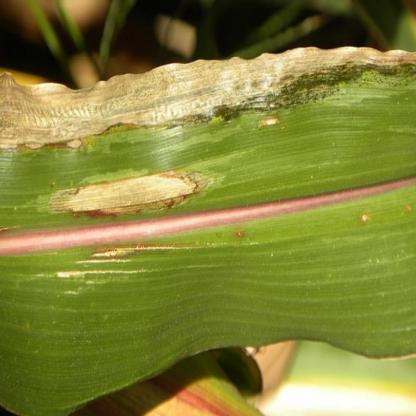corn leaf blight: (3, 48, 415, 358)
